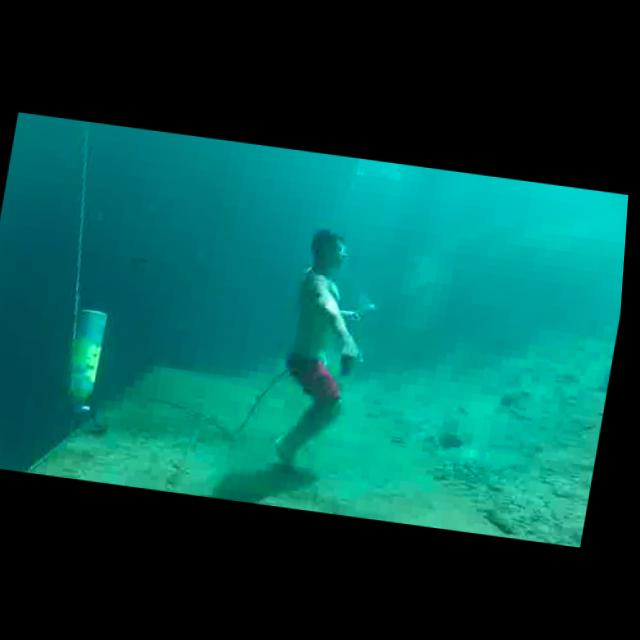human: (263, 217, 390, 487)
